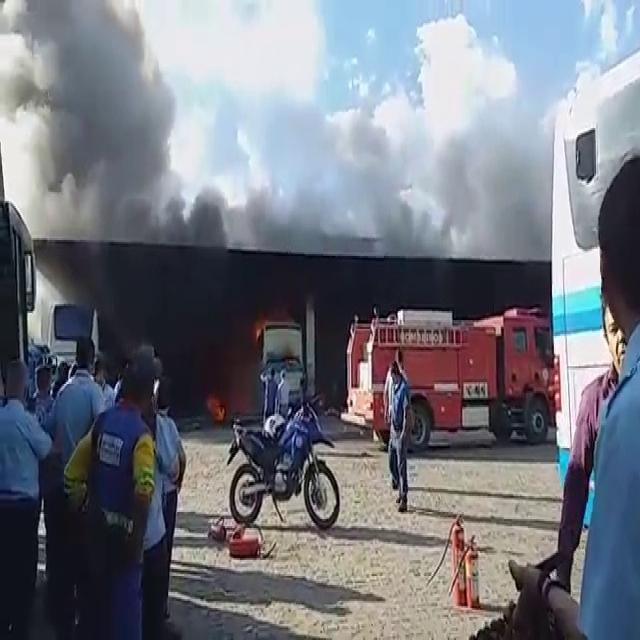Fire: (206, 394, 226, 426)
Smoke: (10, 40, 231, 249)
